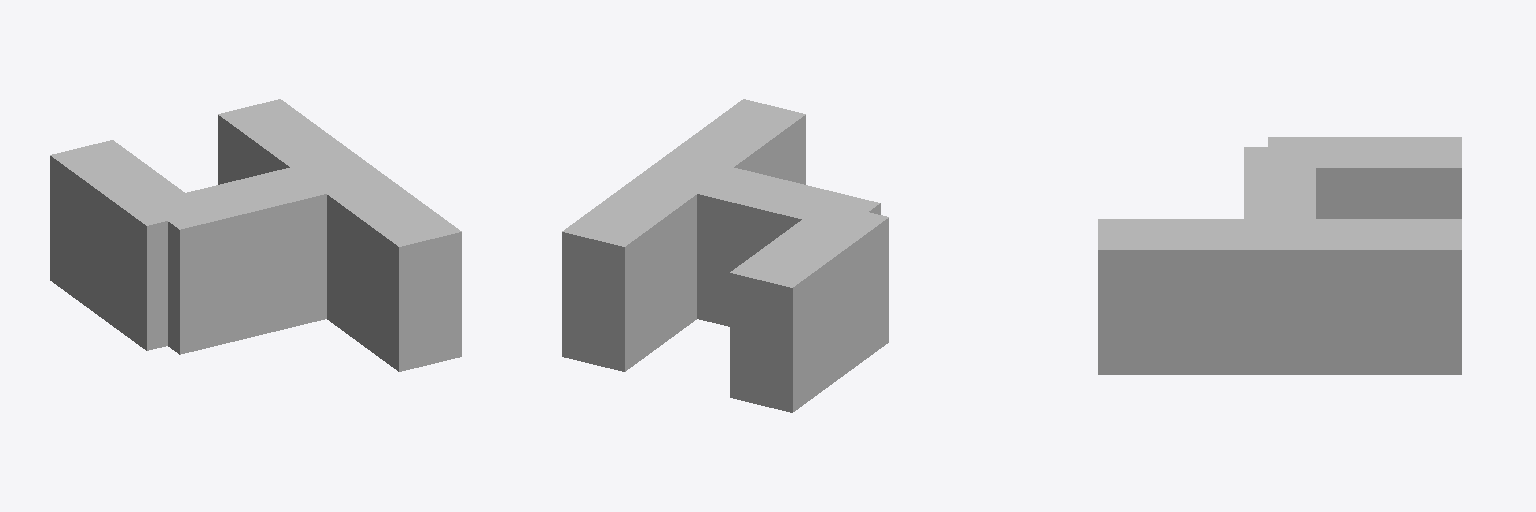
File: num_4.obj
The picture shows the model from 3 angles: view 1: azimuth 30°, elevation 25°; view 2: azimuth 150°, elevation 25°; view 3: azimuth 270°, elevation 25°; orthographic projection.
Parts seen in each view (by area): view 1: Text; view 2: Text; view 3: Text.
Part boxes in pixels (bbox=[...]): Text: bbox=[50, 99, 461, 371]; Text: bbox=[562, 99, 888, 412]; Text: bbox=[1098, 137, 1461, 374].
Size of the model in its own units: 0.5789 by 0.3 by 0.7895.